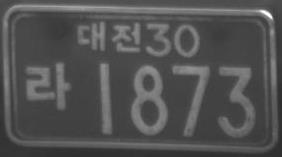0: (172, 22, 201, 59)
1: (91, 61, 121, 136)
3: (216, 65, 257, 140), (144, 22, 172, 58)
7: (170, 63, 211, 138)
8: (128, 63, 169, 136)
대전_O: (75, 20, 142, 53)
라: (22, 60, 72, 111)
